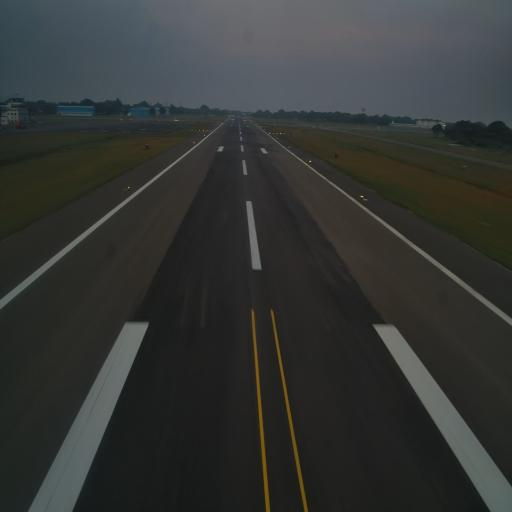off: (172, 154, 176, 160)
on: (360, 193, 365, 200), (308, 158, 312, 164), (128, 184, 131, 191), (193, 141, 196, 145), (288, 145, 290, 149)
